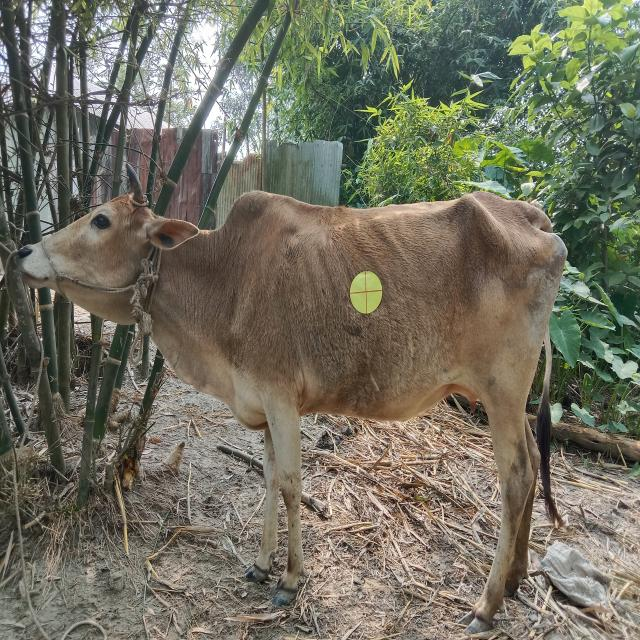badan_sapi: (220, 205, 559, 424)
sapi: (17, 165, 588, 617)
